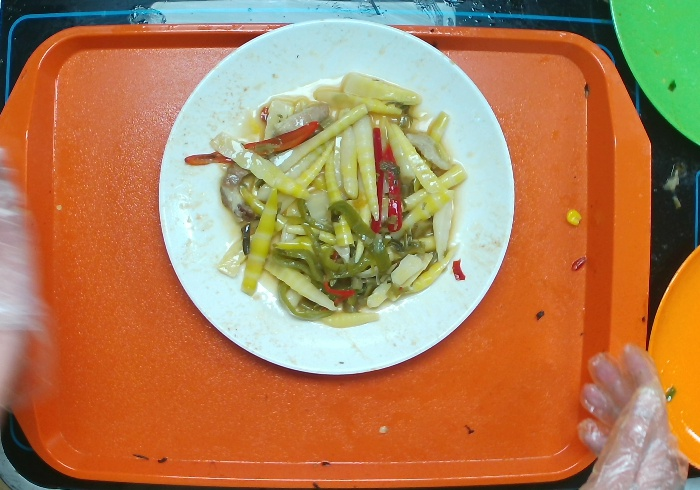HZYJPL-Bai_Se_Yuan_Pan: (152, 14, 521, 381)
